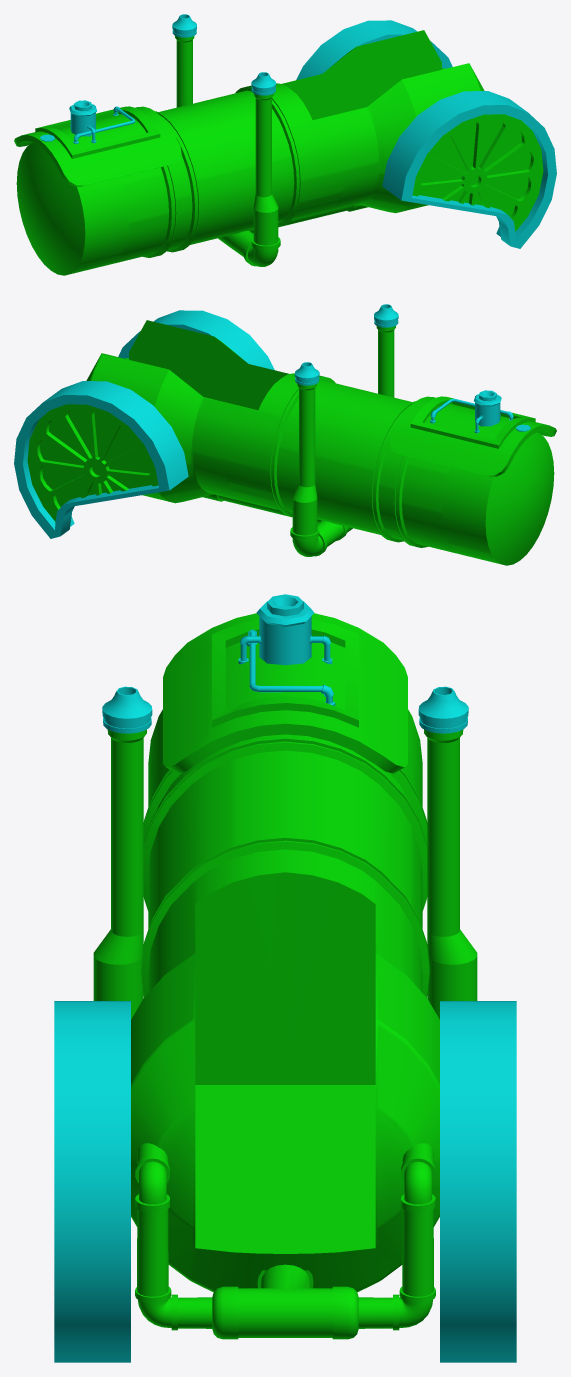
File: Tank.fbx
3 views of the same model, one above another, from view 1: azimuth 30°, elevation 25°; view 2: azimuth 150°, elevation 25°; view 3: azimuth 270°, elevation 25° (orthographic). The views are drawn at different scales.
Visible parts, largest first — view 1: TankApplyMirror; view 2: TankApplyMirror; view 3: TankApplyMirror.
Boxes of the visible parts, x1,y1,x2,y2 form: TankApplyMirror: (14, 14, 556, 275); TankApplyMirror: (14, 304, 556, 565); TankApplyMirror: (54, 594, 516, 1362).
Bounding box in the file's own units: 9.24 × 21.3 × 9.69.
